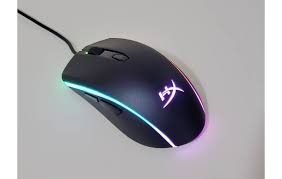mouse: (60, 31, 211, 153)
